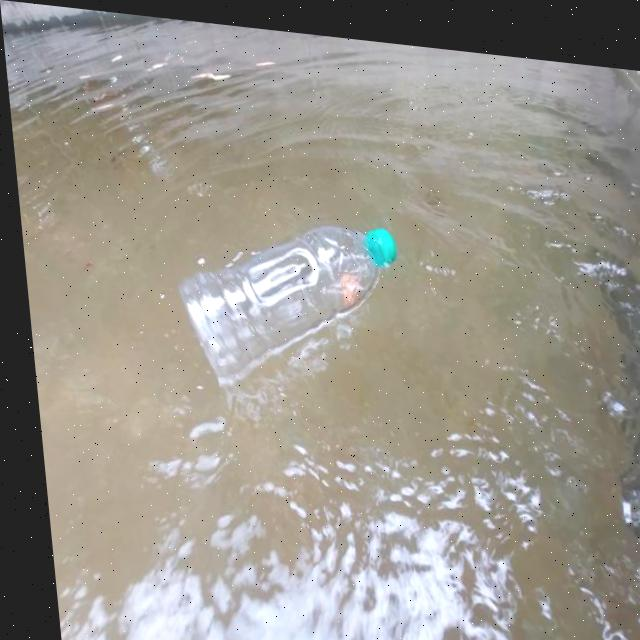waterbottle: (136, 165, 455, 419)
